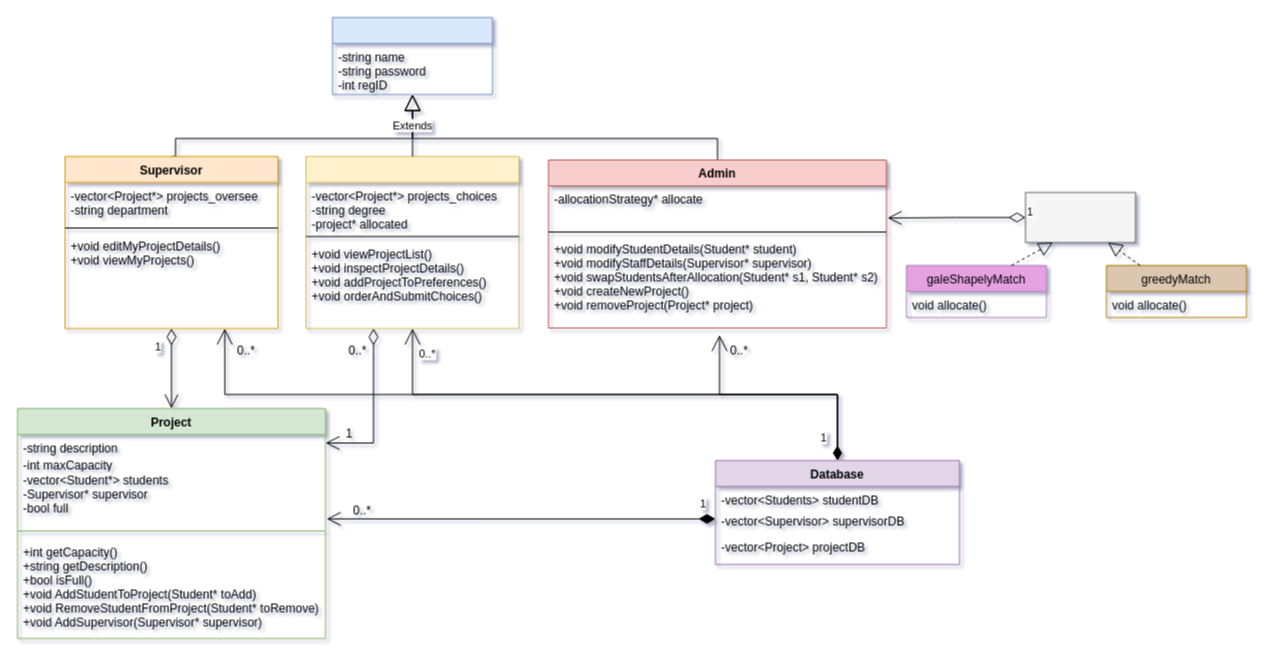
Image size: 1270x665. Some labels were removed from this diagram. Each missing label, with the box of its shape:
Student: (305, 156, 519, 328)
User: (332, 16, 492, 94)
«interface» allocationStrategy: (1024, 192, 1136, 242)
